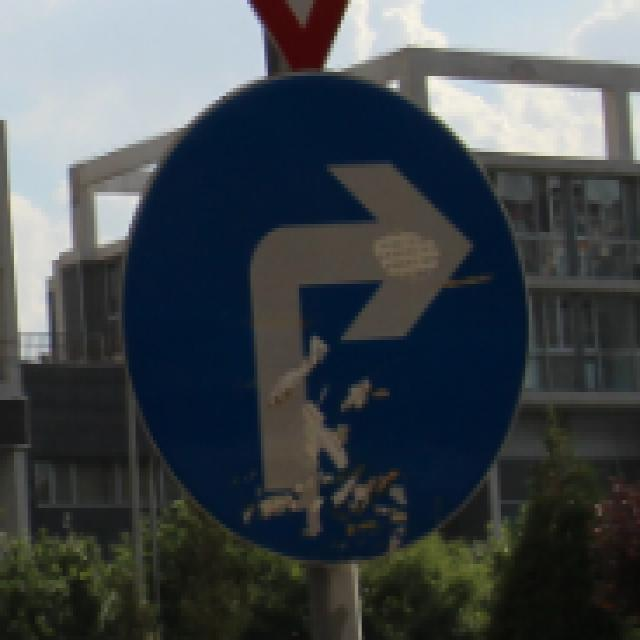Right: (120, 64, 532, 568)
